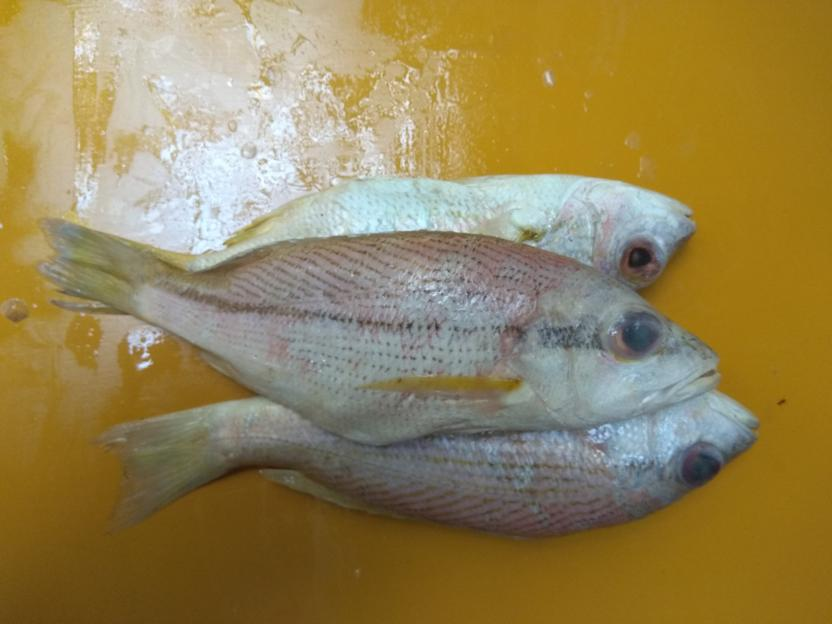Fish head: (513, 278, 721, 429), (613, 390, 763, 516), (554, 172, 697, 294)
Fish tail: (90, 399, 239, 532), (46, 214, 176, 324)
